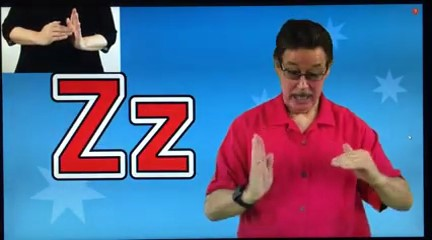Z: (35, 4, 98, 55)
